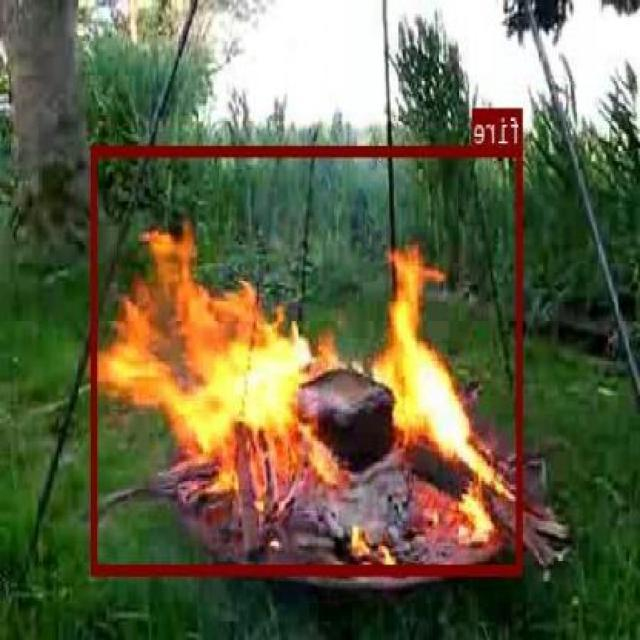Fire: (91, 144, 524, 573)
